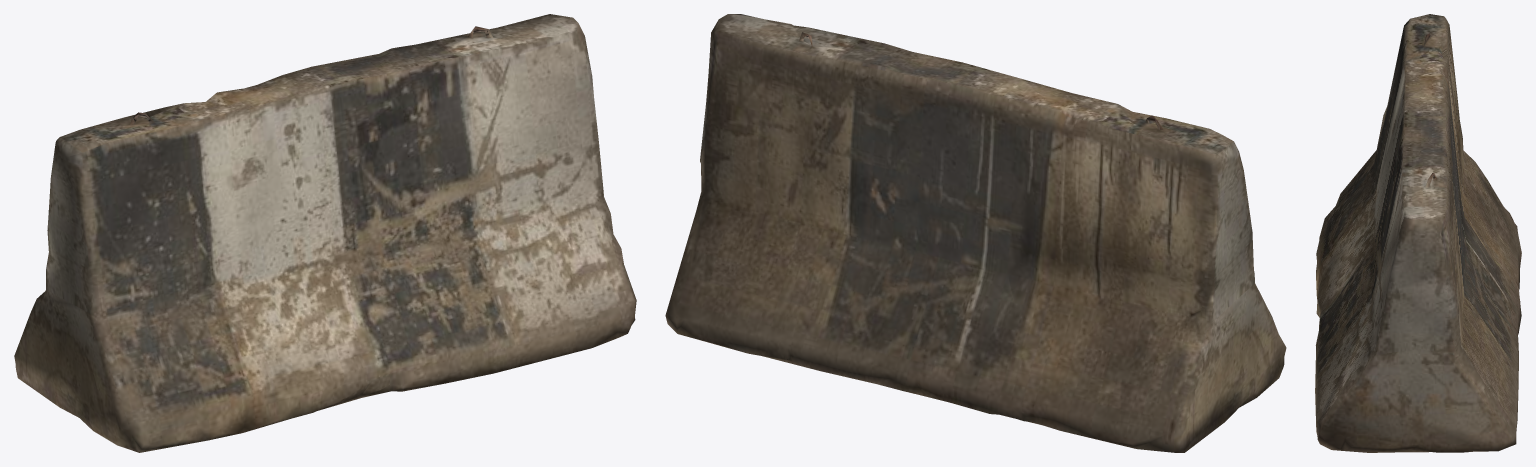
The model's file is concrete_road_barrier.glb.
The picture shows the model from 3 angles, left to right: view 1: azimuth 30°, elevation 25°; view 2: azimuth 150°, elevation 25°; view 3: azimuth 270°, elevation 25°; orthographic projection. The views are drawn at different scales.
Parts seen in each view (by area): view 1: concrete_road_barrier; view 2: concrete_road_barrier; view 3: concrete_road_barrier.
Part boxes in pixels (<box>): concrete_road_barrier: <box>14,14,636,452</box>; concrete_road_barrier: <box>665,14,1286,452</box>; concrete_road_barrier: <box>1315,14,1521,452</box>.
Size of the model in its own units: 1.54 by 0.8274 by 0.635.
1 material, 1 textured.
